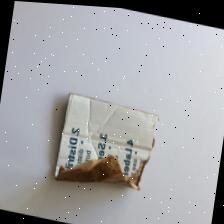cardboard: (47, 75, 167, 216)
